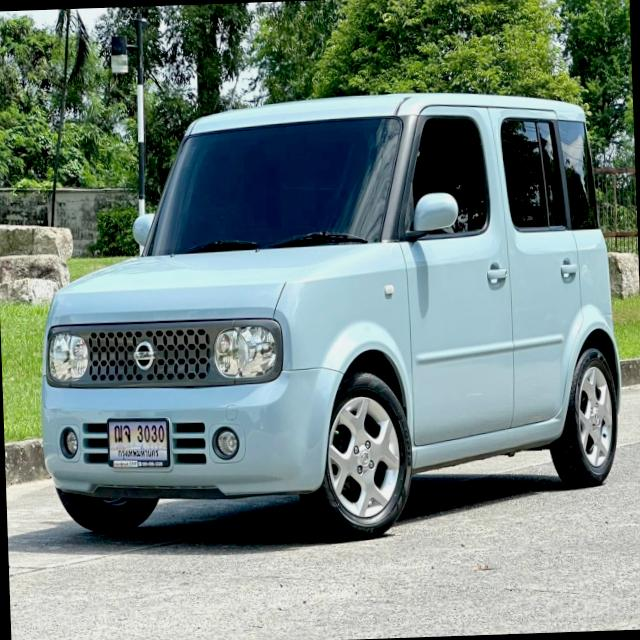license_plate: (96, 404, 182, 483)
